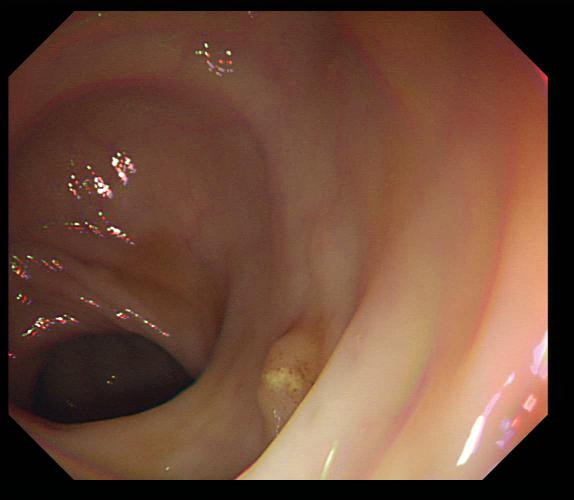polyp: (251, 326, 326, 424)
